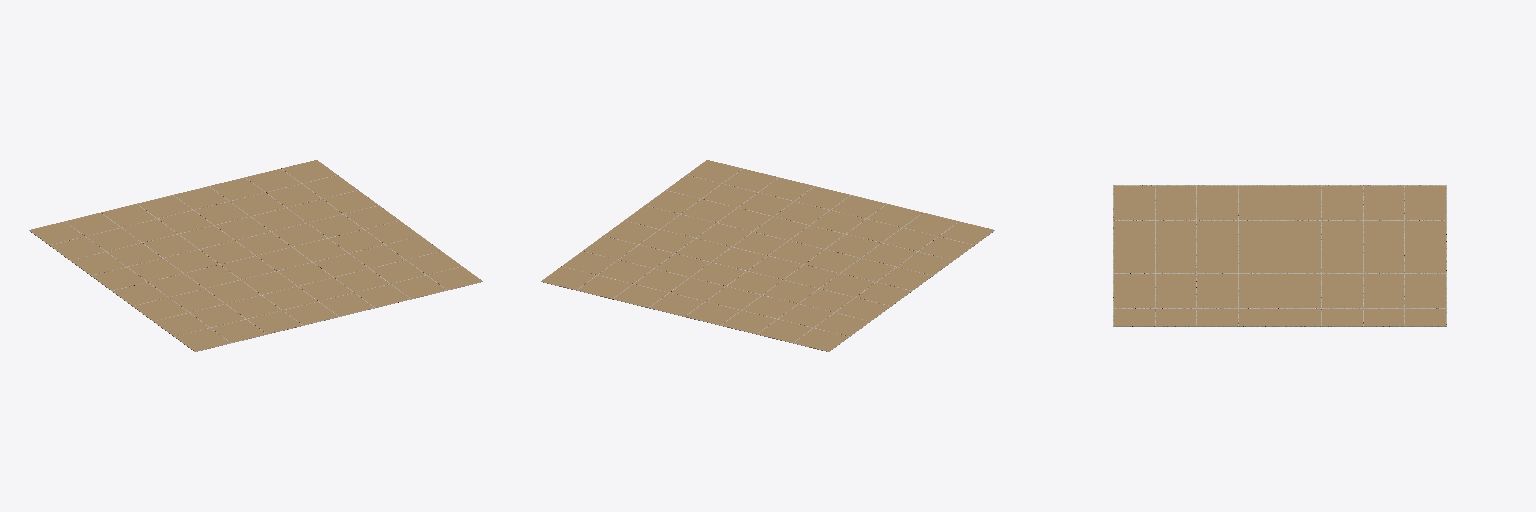
The picture shows the model from 3 angles: view 1: azimuth 30°, elevation 25°; view 2: azimuth 150°, elevation 25°; view 3: azimuth 270°, elevation 25°; orthographic projection.
Parts seen in each view (by area): view 1: Mesh1 Gresie_4x4m_Seamless1 Seamless_Floor_Tiles1 Model; view 2: Mesh1 Gresie_4x4m_Seamless1 Seamless_Floor_Tiles1 Model; view 3: Mesh1 Gresie_4x4m_Seamless1 Seamless_Floor_Tiles1 Model.
Part boxes in pixels (x1,y1,x2,y2): Mesh1 Gresie_4x4m_Seamless1 Seamless_Floor_Tiles1 Model: (29, 160, 482, 351); Mesh1 Gresie_4x4m_Seamless1 Seamless_Floor_Tiles1 Model: (541, 160, 994, 351); Mesh1 Gresie_4x4m_Seamless1 Seamless_Floor_Tiles1 Model: (1113, 185, 1446, 326).
Bounding box in the file's own units: 124 × 0.1555 × 124.
Materials: 2 (1 with a texture image).